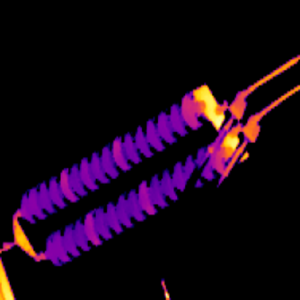insulator: (21, 93, 211, 263)
